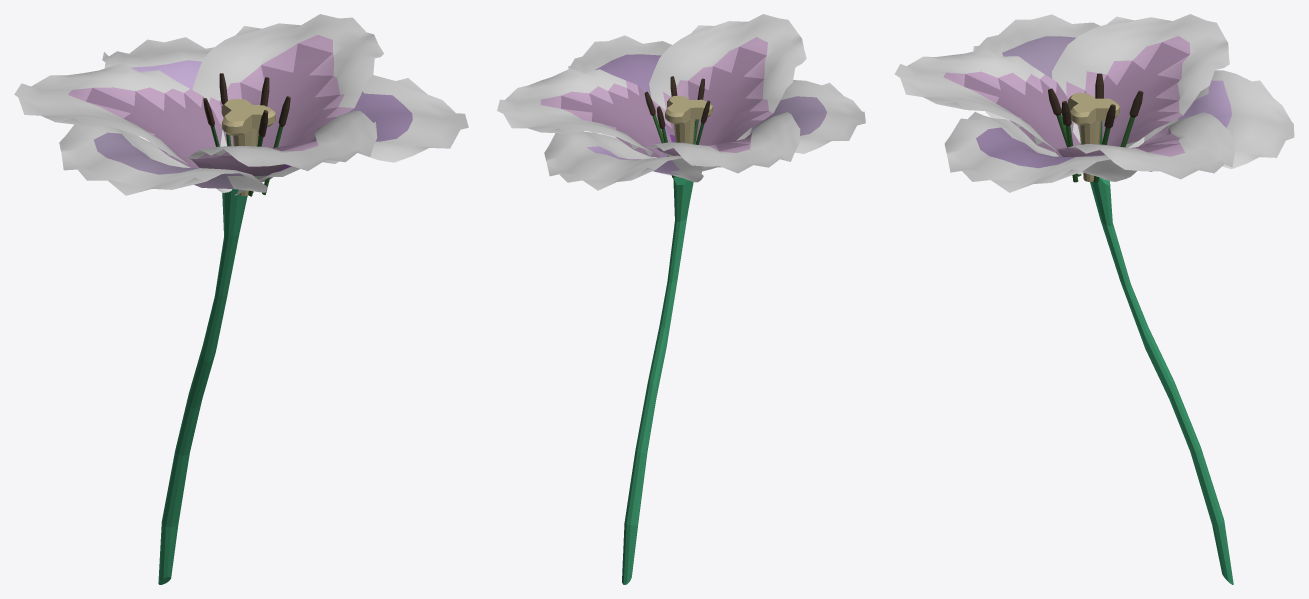
Rendered from tulip.fbx.
The picture shows the model from 3 angles, left to right: view 1: azimuth 30°, elevation 25°; view 2: azimuth 150°, elevation 25°; view 3: azimuth 270°, elevation 25°; orthographic projection. The views are drawn at different scales.
Parts seen in each view (by area): view 1: pPlane8, pPlane7, pPlane4, pPlane6, pCylinder7, pPlane1, pPlane5, pCylinder1; view 2: pPlane1, pPlane8, pPlane5, pCylinder7, pPlane4, pPlane7, pPlane6, pCylinder1; view 3: pPlane7, pPlane1, pPlane6, pPlane5, pPlane8, pCylinder7, pPlane4, pCylinder1.
Part boxes in pixels (x1,y1,x2,y2): pPlane8: (192, 14, 383, 148); pPlane7: (14, 63, 232, 192); pPlane4: (59, 124, 267, 195); pPlane6: (235, 75, 468, 195); pCylinder7: (158, 189, 247, 584); pPlane1: (186, 110, 377, 182); pPlane5: (102, 37, 213, 90); pCylinder1: (221, 99, 275, 195); pPlane1: (649, 14, 806, 145); pPlane8: (497, 68, 671, 157); pPlane5: (544, 131, 703, 190); pCylinder7: (622, 143, 695, 584); pPlane4: (702, 80, 865, 171); pPlane7: (646, 112, 800, 173); pPlane6: (568, 35, 675, 175); pCylinder1: (665, 95, 712, 144); pPlane7: (1052, 14, 1229, 147); pPlane1: (894, 48, 1083, 174); pPlane6: (944, 112, 1136, 192); pPlane5: (1144, 70, 1294, 171); pPlane8: (1054, 112, 1234, 179); pCylinder7: (1090, 176, 1233, 584); pPlane4: (973, 14, 1144, 147); pCylinder1: (1068, 92, 1119, 181).
Bounding box in the file's own units: 5.91 × 8.79 × 6.21.
